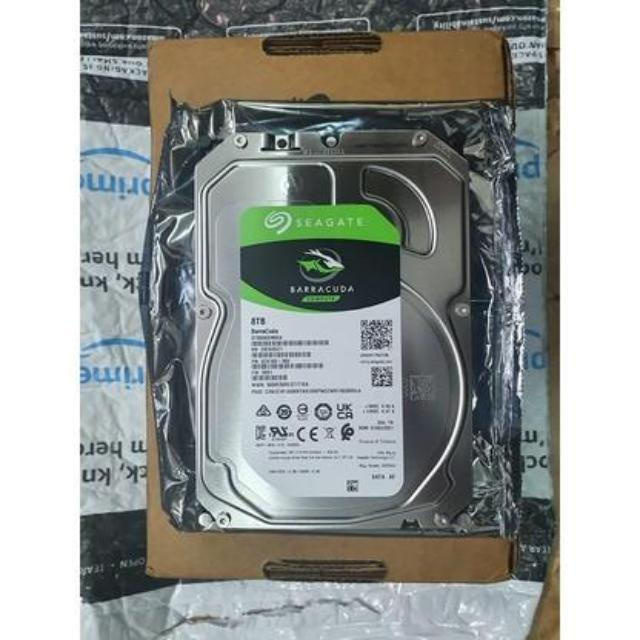DISK: (195, 131, 473, 537)
